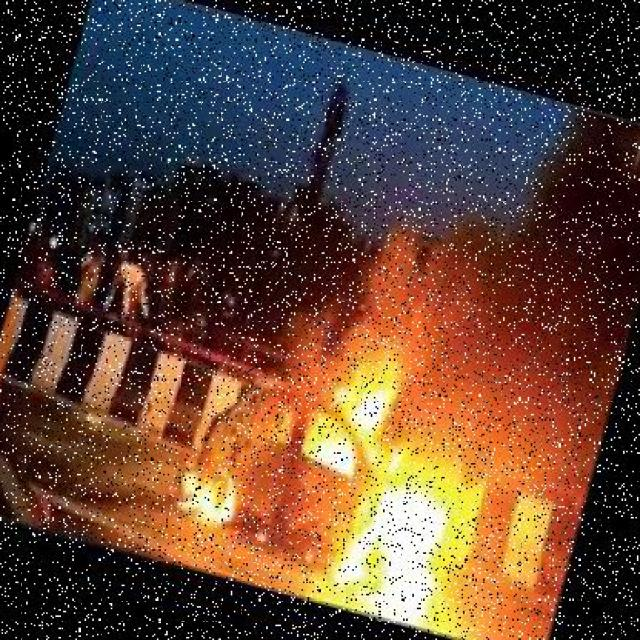fire: (160, 309, 517, 629)
